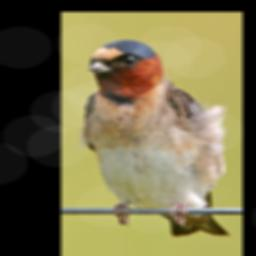Swallow: (78, 39, 230, 239)
